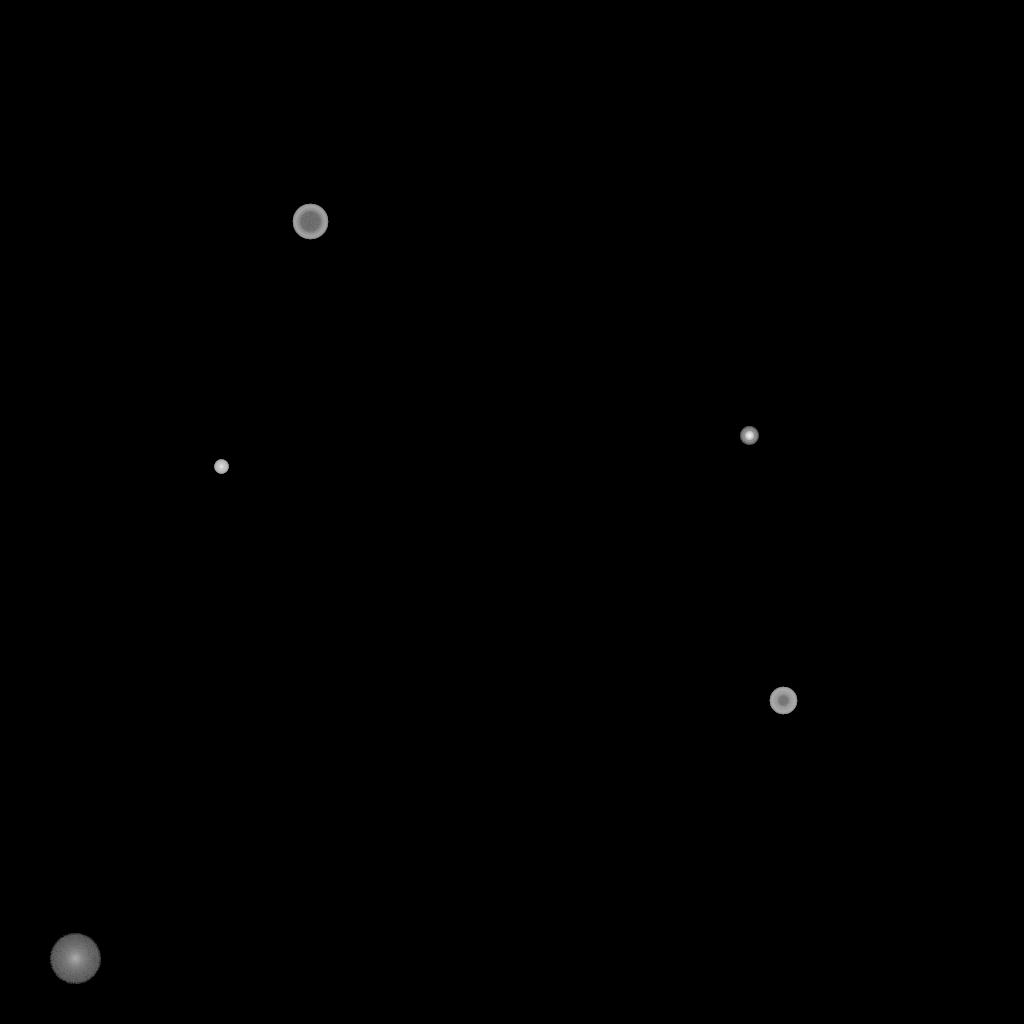depth:-20: (740, 427, 758, 445)
depth:-30: (214, 460, 228, 474)
depth:-50: (769, 687, 797, 715)
depth:-60: (292, 204, 328, 240)
depth:20: (49, 934, 101, 984)
